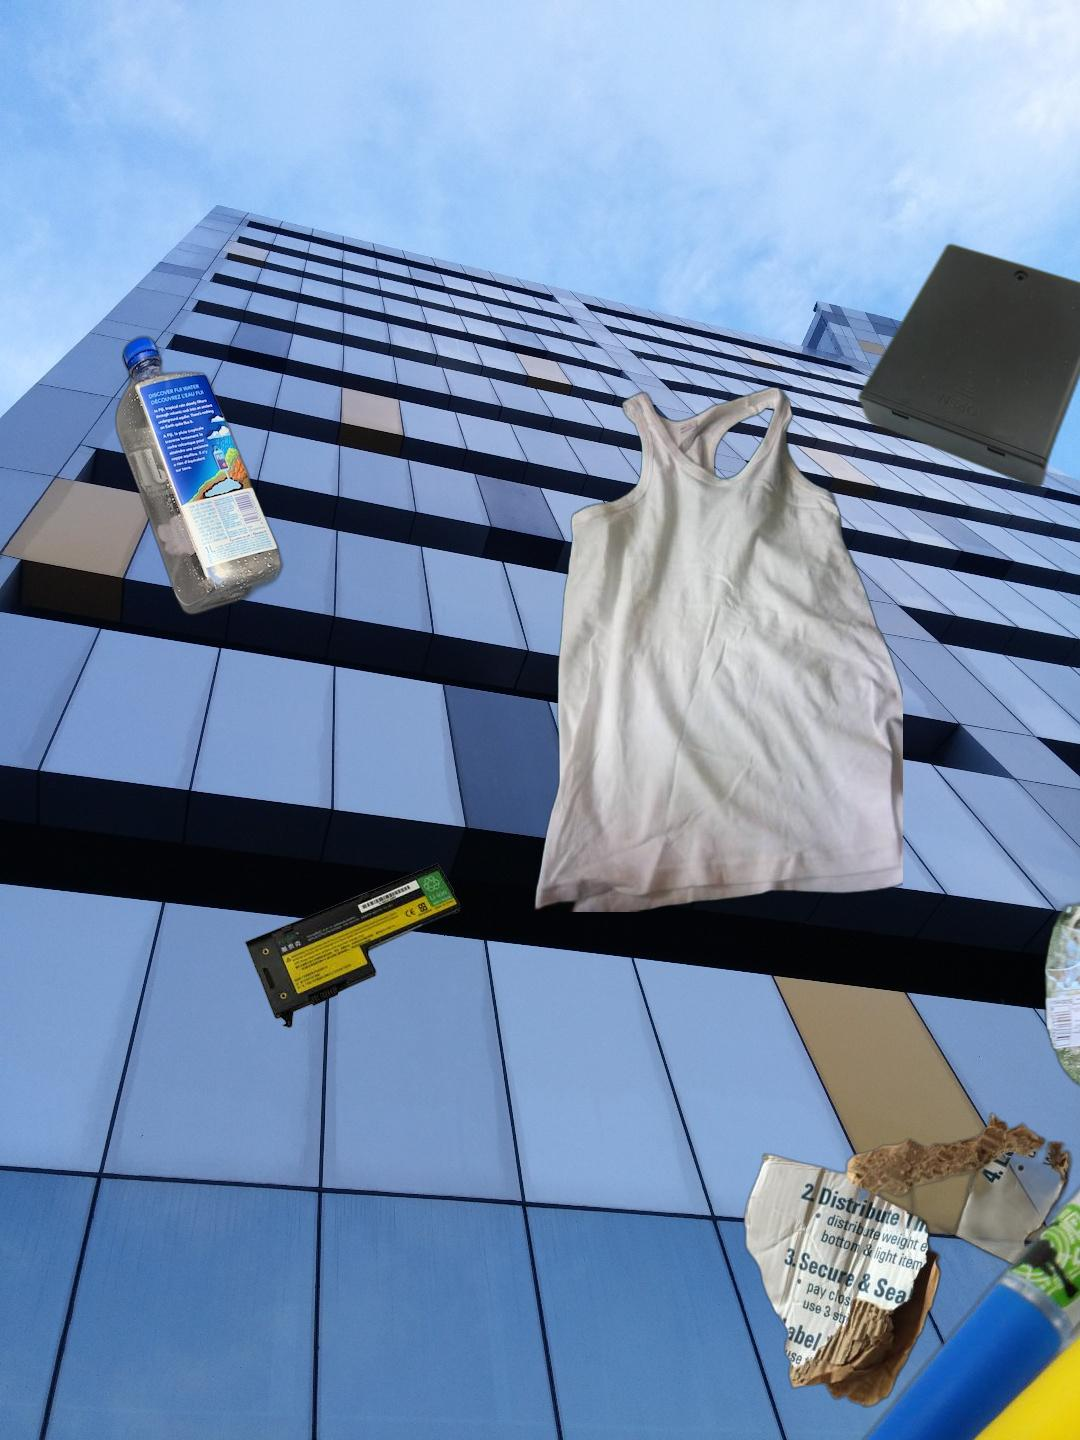battery: (854, 242, 1080, 490), (242, 859, 463, 1031)
clothes: (529, 382, 903, 912)
penholder: (728, 664, 1080, 1440)
plastic-bottles: (111, 330, 288, 621), (1040, 615, 1080, 1268)
trashbox-cardboard: (740, 1111, 1075, 1411)
